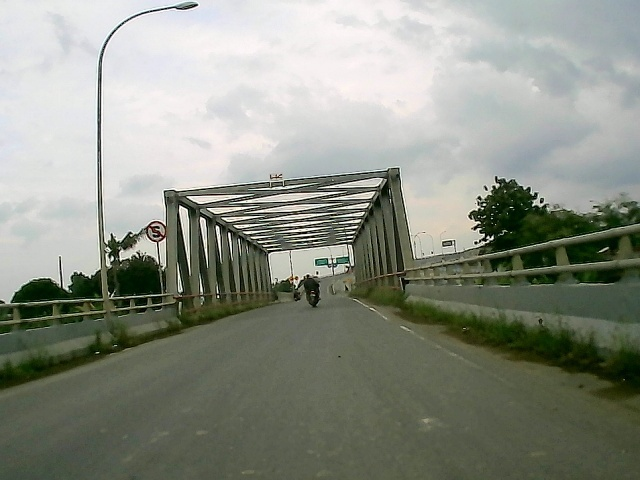Dilarang berhenti: (146, 220, 168, 244)
